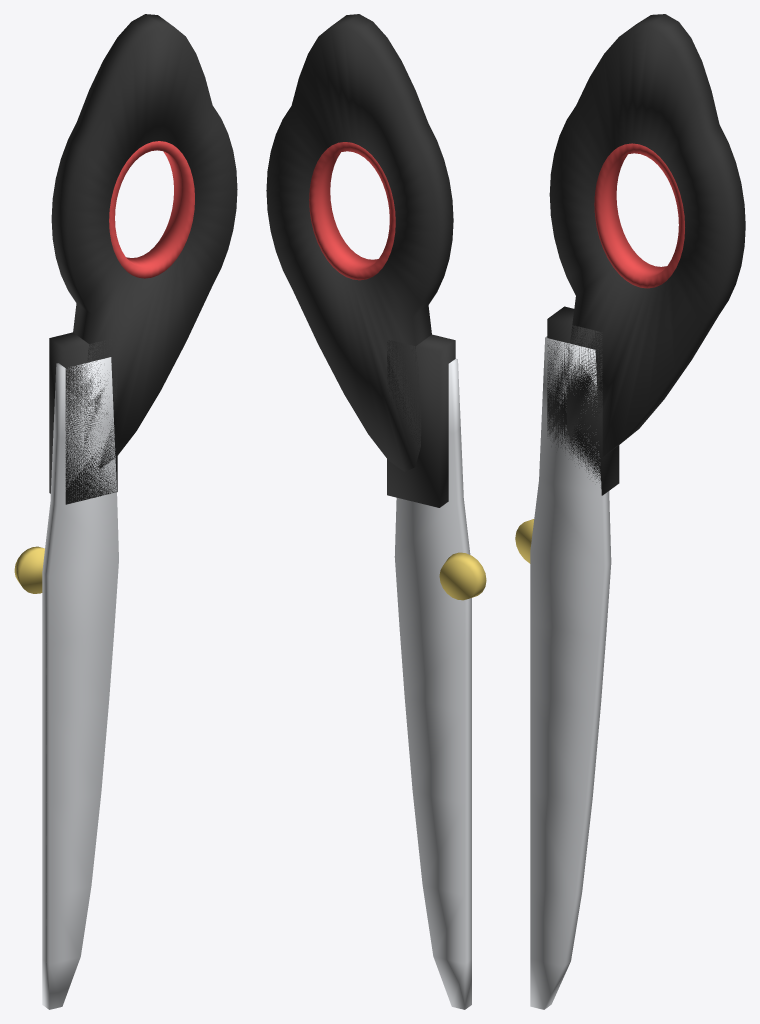
Rendered from base_half.glb.
The picture shows the model from 3 angles, left to right: view 1: azimuth 30°, elevation 25°; view 2: azimuth 150°, elevation 25°; view 3: azimuth 330°, elevation 25°; orthographic projection. The views are drawn at different scales.
Parts seen in each view (by area): view 1: base_half.001; view 2: base_half.001; view 3: base_half.001.
Part boxes in pixels (box(x1,y1,x2,y2)): base_half.001: box(14, 14, 237, 1009); base_half.001: box(266, 14, 486, 1009); base_half.001: box(515, 14, 745, 1009).
Size of the model in its own units: 0.0483 by 0.21 by 0.0064.
